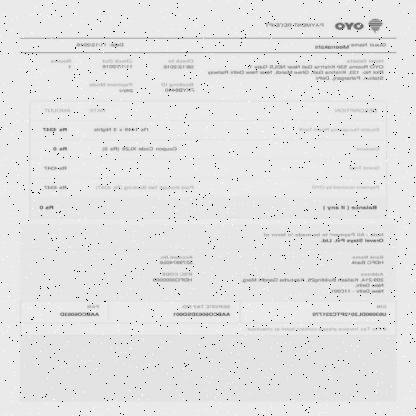Paragraph: (206, 57, 386, 83), (29, 201, 383, 213), (240, 271, 387, 295), (260, 230, 386, 245), (312, 304, 388, 317), (243, 326, 389, 332), (172, 304, 232, 317), (313, 42, 389, 50), (88, 82, 134, 94), (58, 304, 100, 317), (152, 271, 194, 283), (263, 22, 326, 29), (349, 254, 385, 266), (160, 82, 196, 94), (162, 58, 196, 70), (158, 254, 195, 265), (101, 58, 134, 70), (75, 42, 125, 48), (49, 58, 73, 69)
Table: (29, 101, 386, 197)
